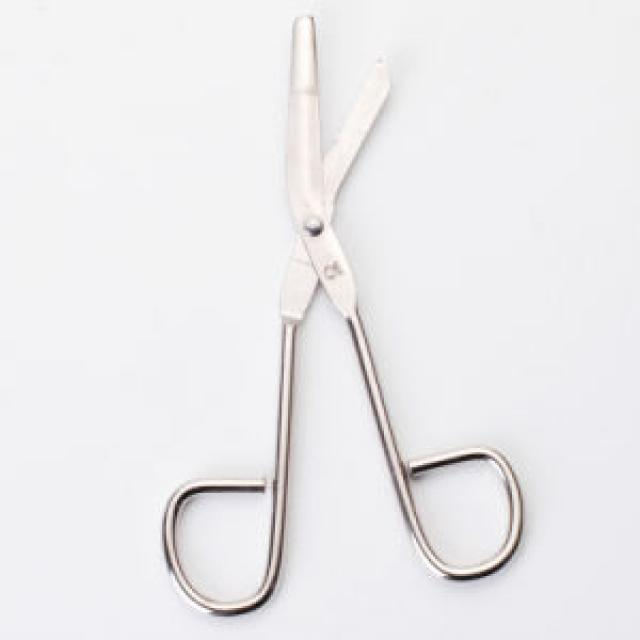B3: (150, 9, 534, 610)
